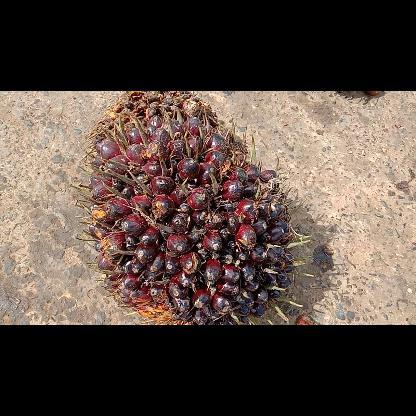Kurang masak: (70, 108, 312, 324)
TBS abnormal: (86, 90, 218, 148)
